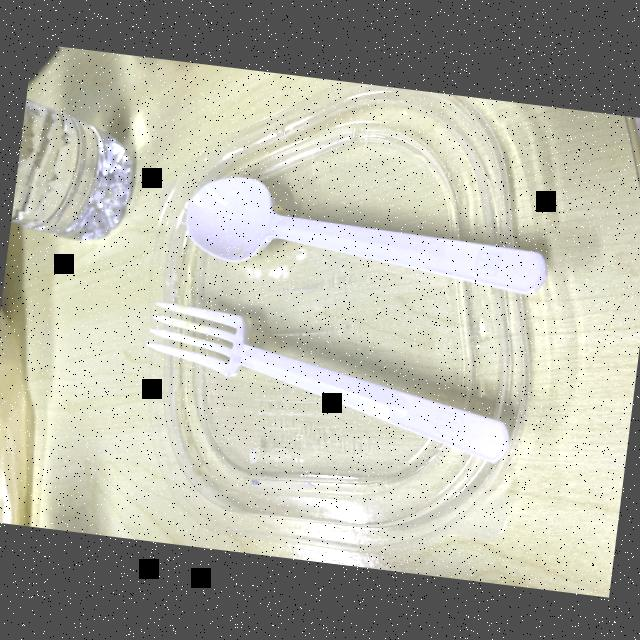plastic_spoon: (128, 282, 526, 492), (158, 161, 558, 327)
